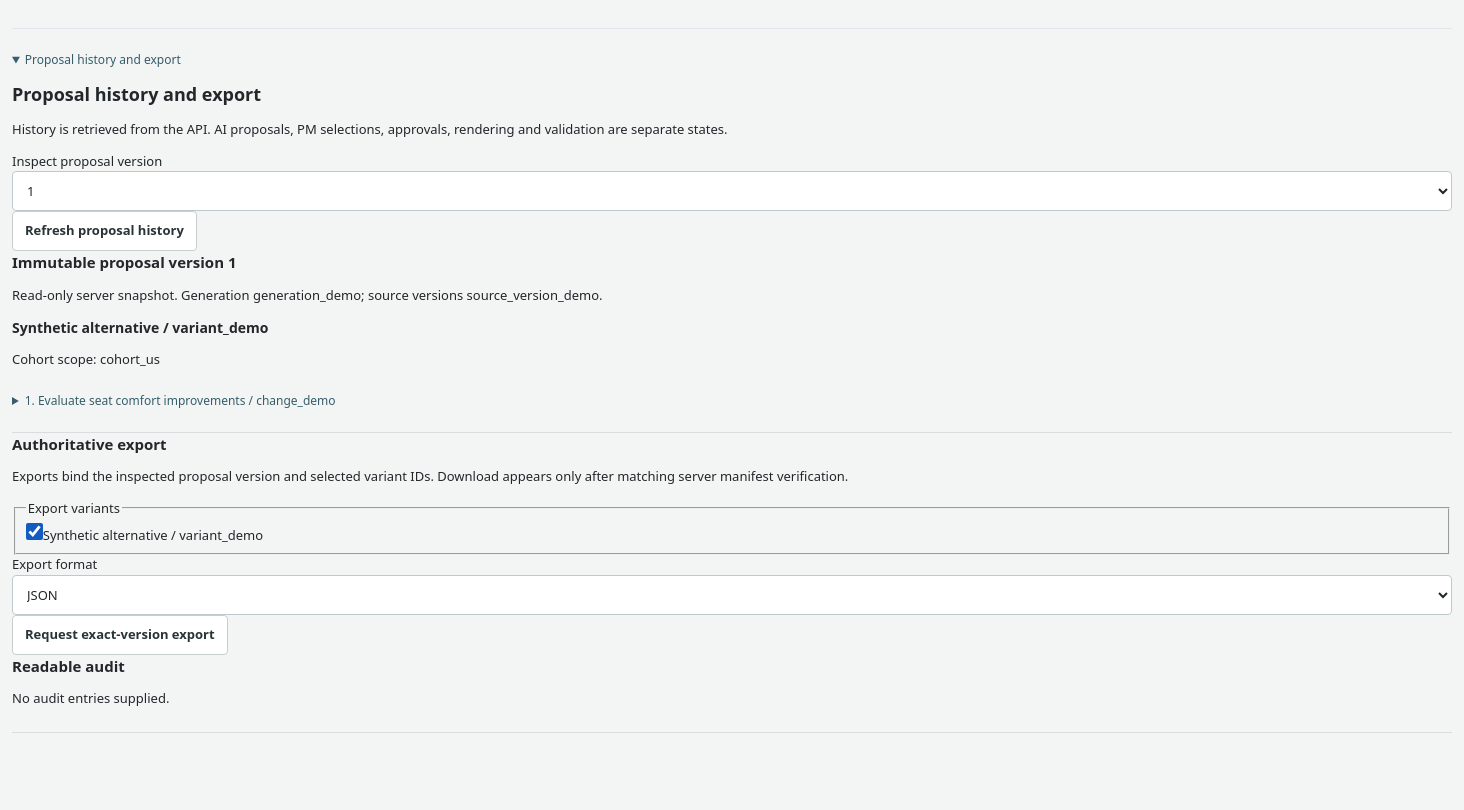
Test: withholds download on mismatched manifest and offers retrieval recovery
expect the heading "Immutable proposal version 1" is shown: met, box left=12, top=252, right=236, bottom=272
Click the button "Request exact-version export": [120, 635] box left=12, top=615, right=228, bottom=655
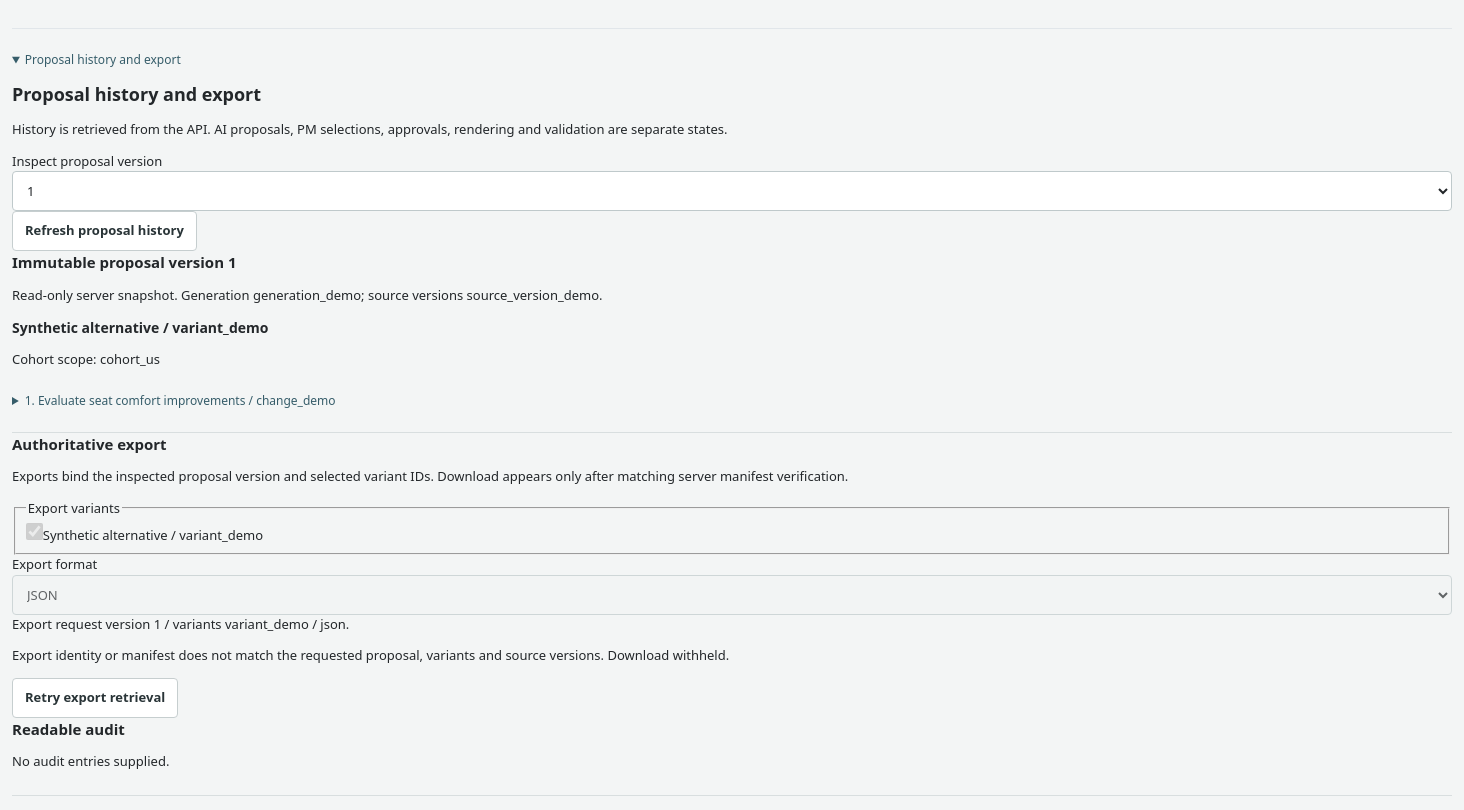
expect the message is shown: met, box left=12, top=646, right=729, bottom=664
expect the button "Retry export retrieval" is shown: met, box left=12, top=678, right=178, bottom=718
